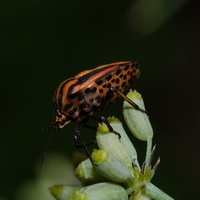insect: (54, 61, 139, 127)
